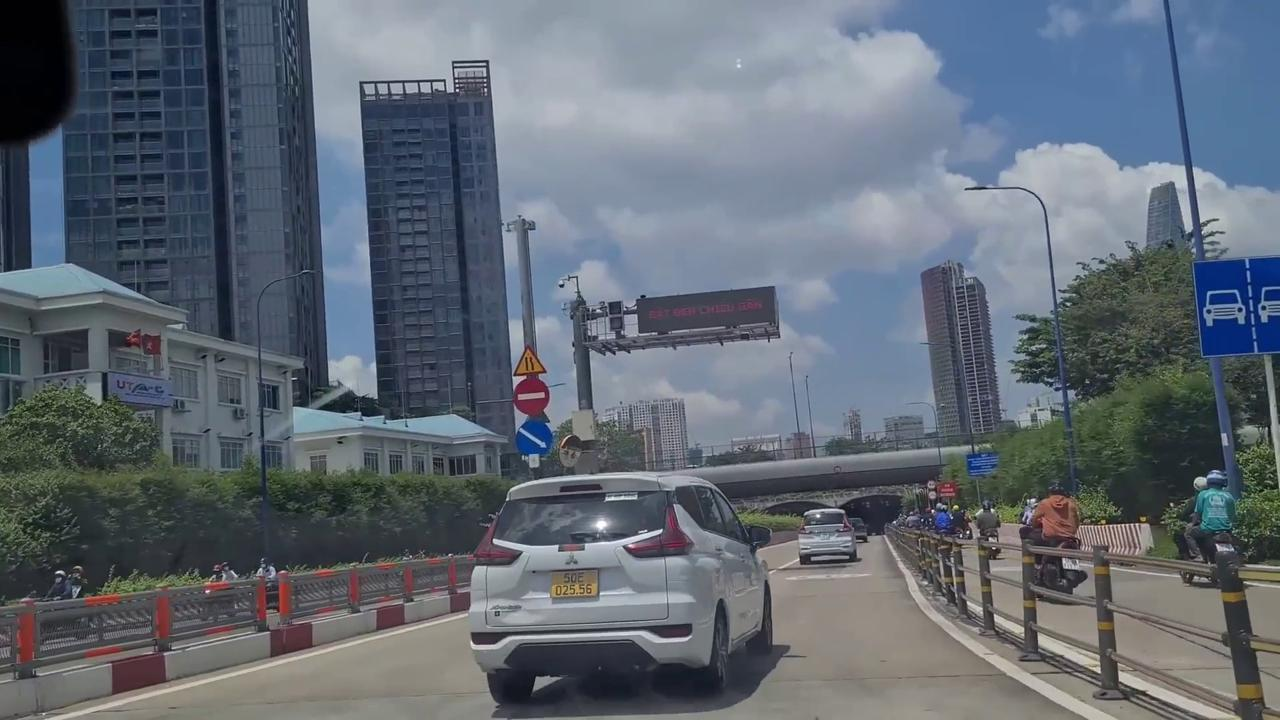Cấm đi ngược chiều: (512, 378, 552, 417)
Hướng phải đi vòng sang phải: (515, 418, 555, 460)
Đuờng hẹp: (509, 344, 548, 376)
